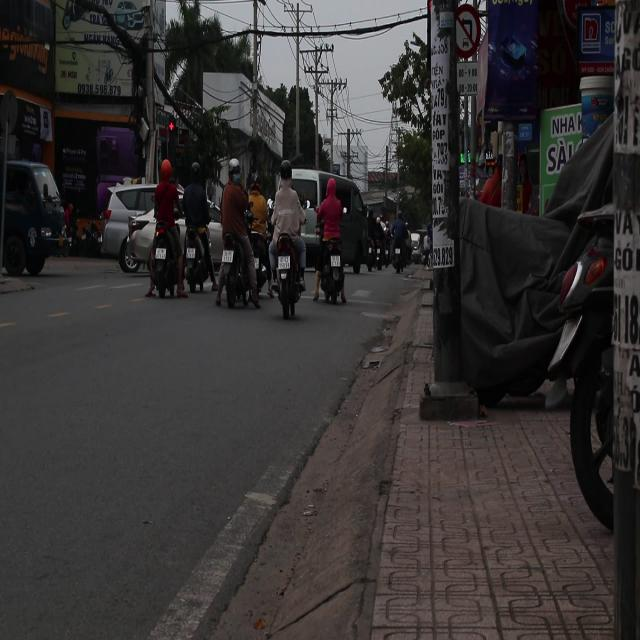car: (4, 161, 68, 278), (100, 184, 160, 262)
motorbike: (312, 231, 352, 331), (270, 226, 308, 330), (222, 235, 262, 322), (185, 226, 214, 314), (148, 218, 178, 296)
